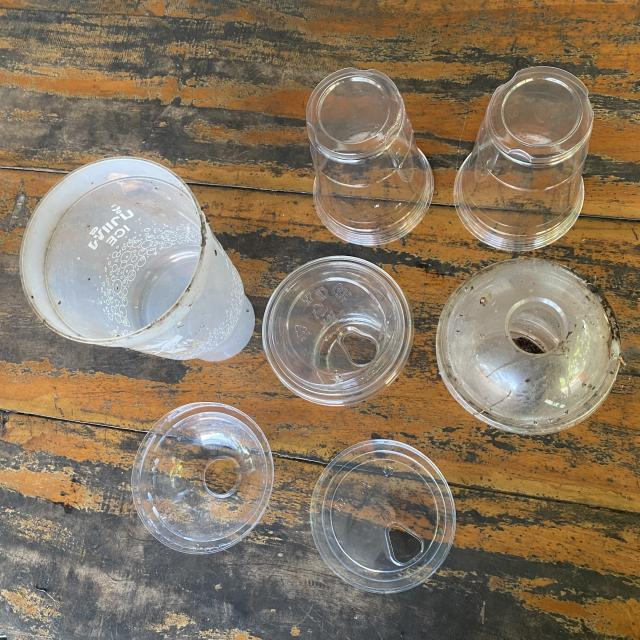plastik: (20, 158, 254, 361), (436, 259, 621, 435), (455, 66, 594, 250), (262, 256, 414, 406), (306, 68, 434, 245), (310, 440, 455, 594), (131, 402, 274, 554)
